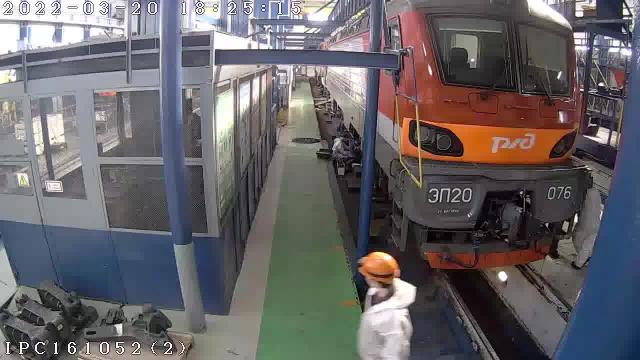person: (358, 252, 416, 359), (327, 131, 361, 165)
train: (376, 0, 592, 268)
